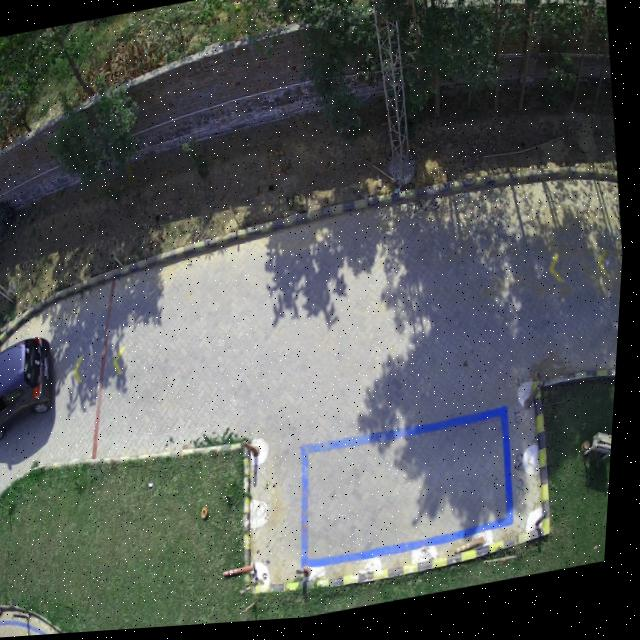car: (0, 337, 57, 442)
